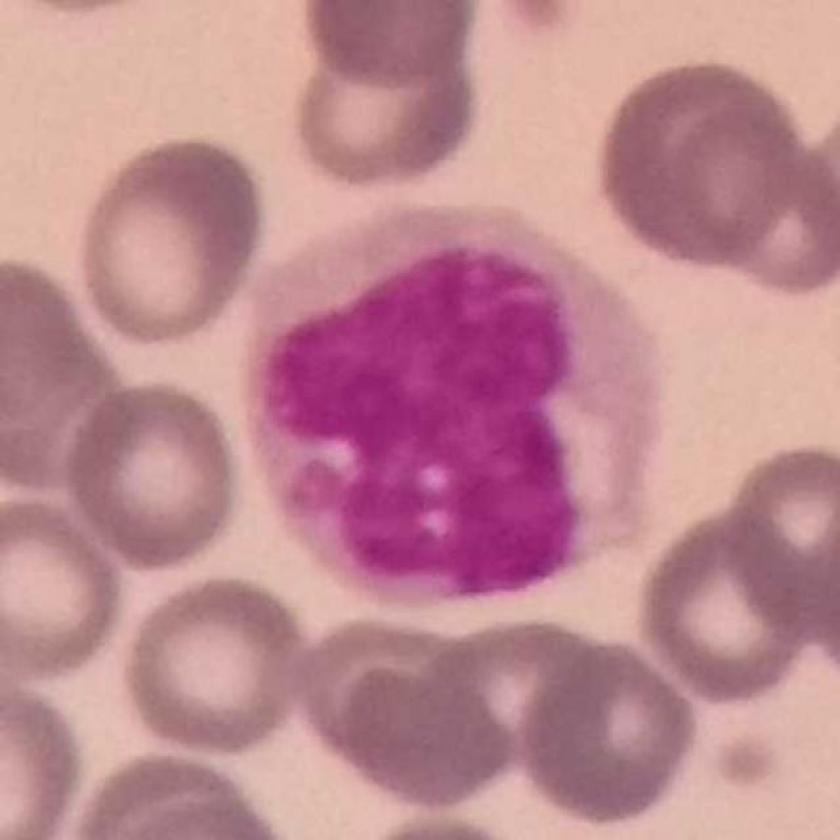monocyte: (237, 194, 676, 610)
